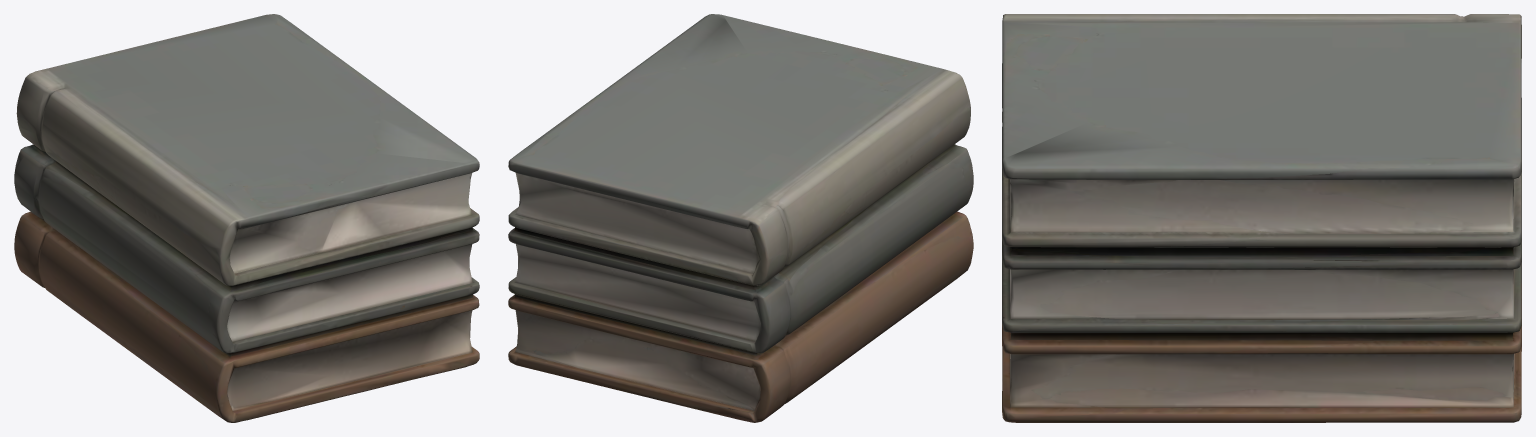
File: books-lite.glb
3 renders of one model, left to right at view 1: azimuth 30°, elevation 25°; view 2: azimuth 150°, elevation 25°; view 3: azimuth 270°, elevation 25°, orthographic. The views are drawn at different scales.
Visible parts, largest first — view 1: node_0; view 2: node_0; view 3: node_0.
Boxes of the visible parts, x1,y1,x2,y2 form: node_0: [14, 14, 479, 422]; node_0: [508, 14, 973, 422]; node_0: [1002, 14, 1521, 422].
Size of the model in its own units: 0.6719 by 0.4921 by 0.8954.
1 material, 1 textured.
